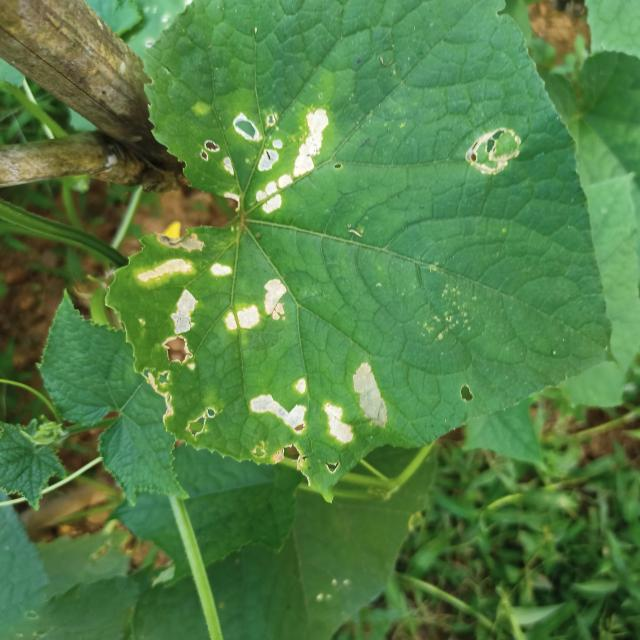disease_cucumber: (193, 102, 331, 219), (135, 228, 205, 419), (208, 261, 288, 341), (245, 373, 312, 464), (322, 360, 390, 448)
